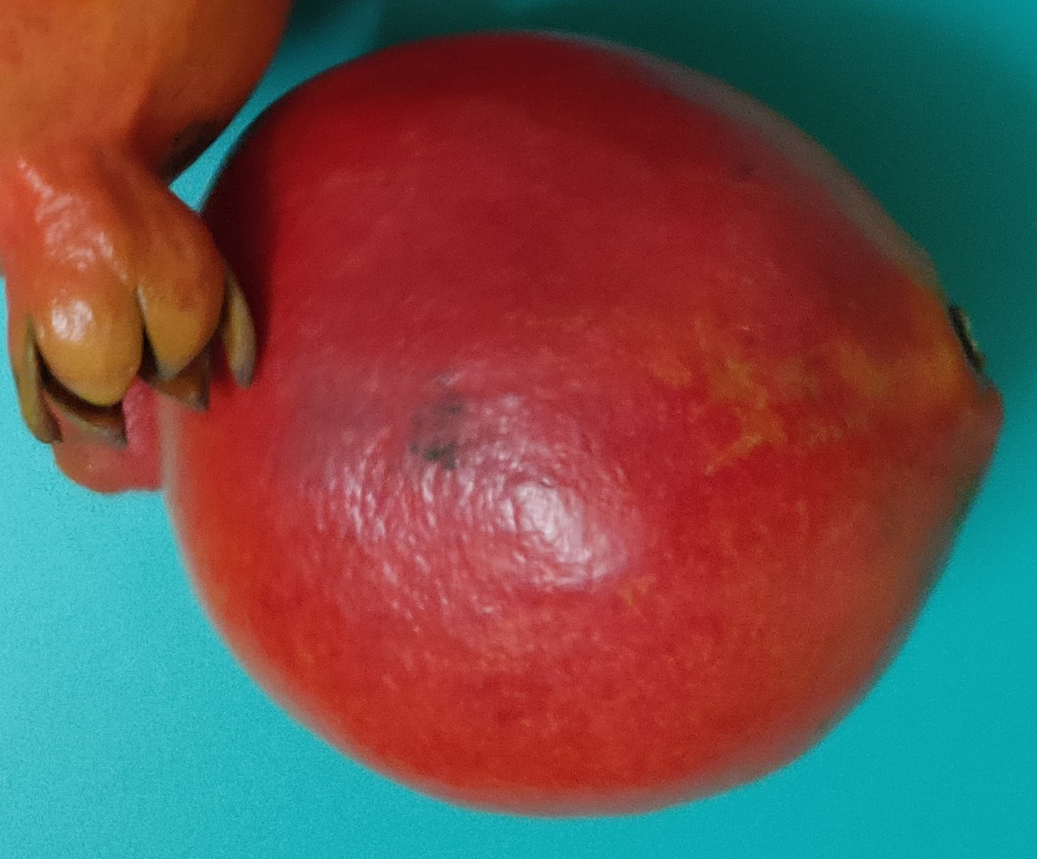pomegranate_B: (44, 29, 1004, 818)
